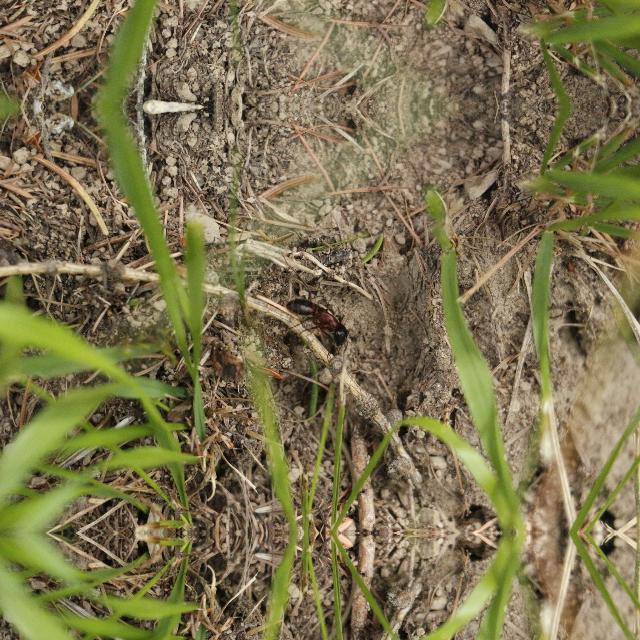Camponotus: (278, 286, 366, 348)
